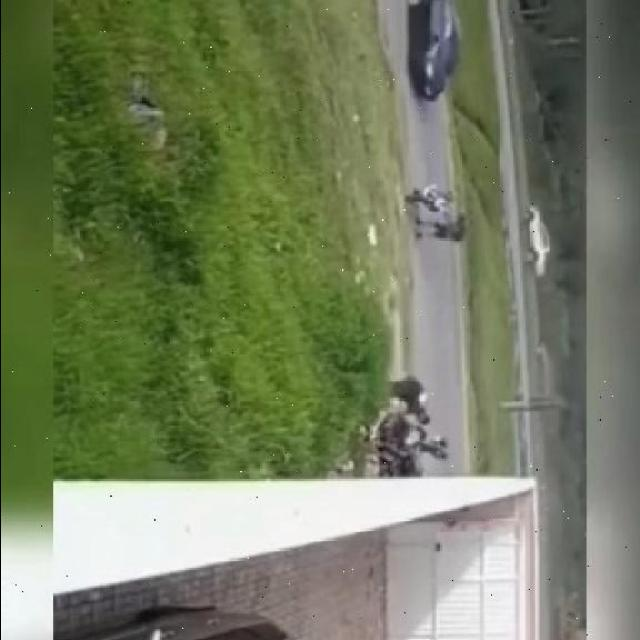accident: (370, 413, 451, 487)
